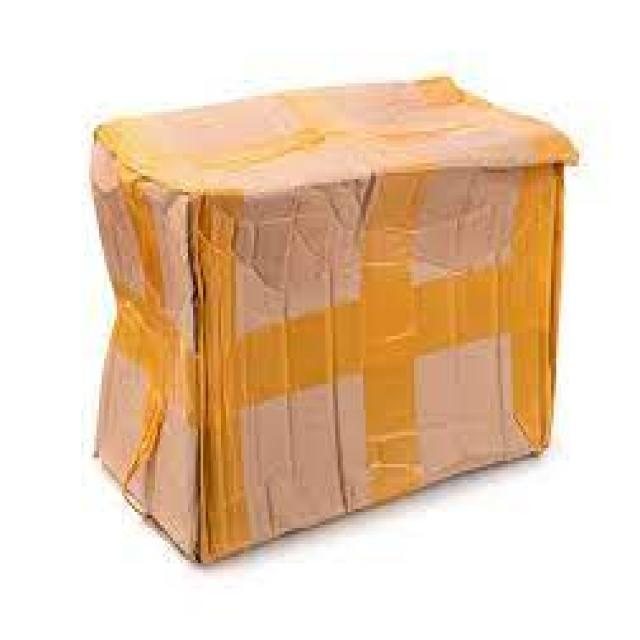Kardus kondisi bagus: (85, 79, 587, 568)
